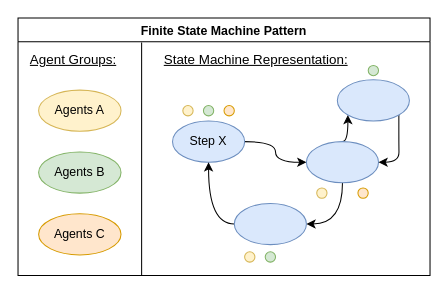
Some shapes in this 448 by 295 pixel diagram are drawn without their labels. The centre of each missing label's shape, as x and y in pixels:
"Step W" belongs at [372,100].
"Step Y" belongs at [342,162].
"Step Z" belongs at [269,223].
